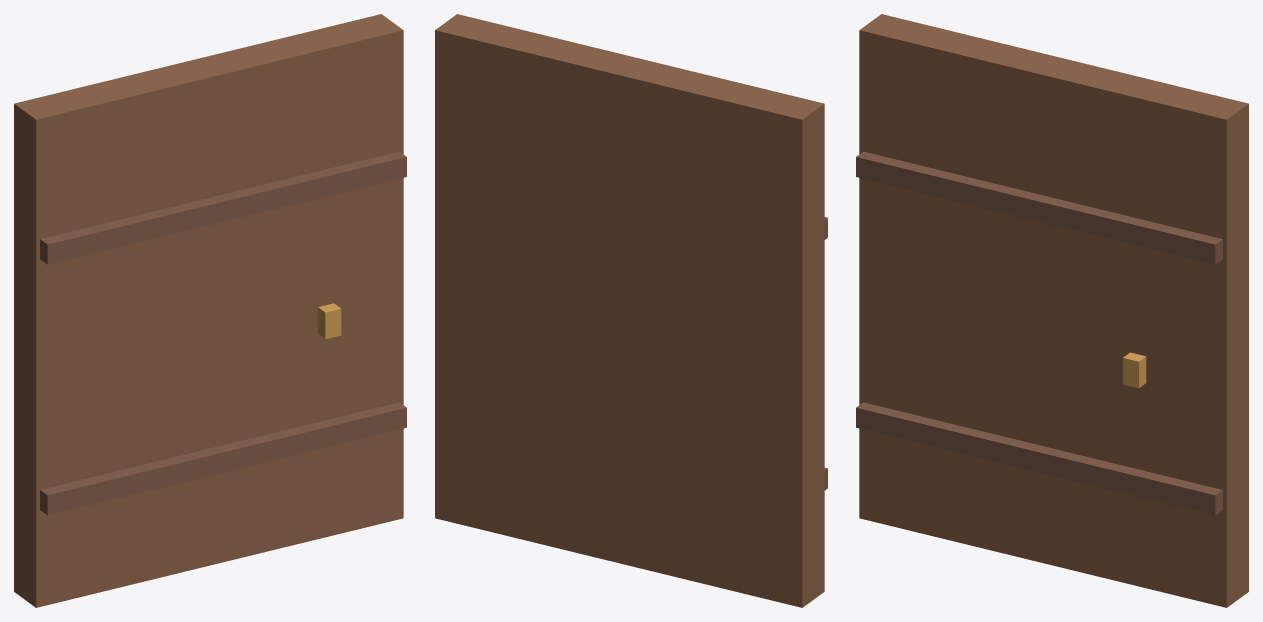
The model's file is Stage1_GateVisual.fbx.
3 views of the same model, side by side, from view 1: azimuth 30°, elevation 25°; view 2: azimuth 150°, elevation 25°; view 3: azimuth 330°, elevation 25° (orthographic).
Visible parts, largest first — view 1: SM_GatePanel_MOVABLE, PROP_GateBrace_0.65, PROP_GateBrace_2.15, PROP_DoorHandle; view 2: SM_GatePanel_MOVABLE; view 3: SM_GatePanel_MOVABLE, PROP_GateBrace_0.65, PROP_GateBrace_2.15, PROP_DoorHandle.
Boxes of the visible parts, box(x1,y1,x2,y2) form: SM_GatePanel_MOVABLE: box(14, 14, 403, 607); PROP_GateBrace_0.65: box(40, 402, 406, 515); PROP_GateBrace_2.15: box(40, 151, 406, 264); PROP_DoorHandle: box(318, 303, 341, 339); SM_GatePanel_MOVABLE: box(435, 14, 824, 607); SM_GatePanel_MOVABLE: box(859, 14, 1248, 607); PROP_GateBrace_0.65: box(856, 402, 1222, 515); PROP_GateBrace_2.15: box(856, 151, 1222, 264); PROP_DoorHandle: box(1123, 352, 1146, 388).
Bounding box in the file's own units: 230 × 38 × 292.
